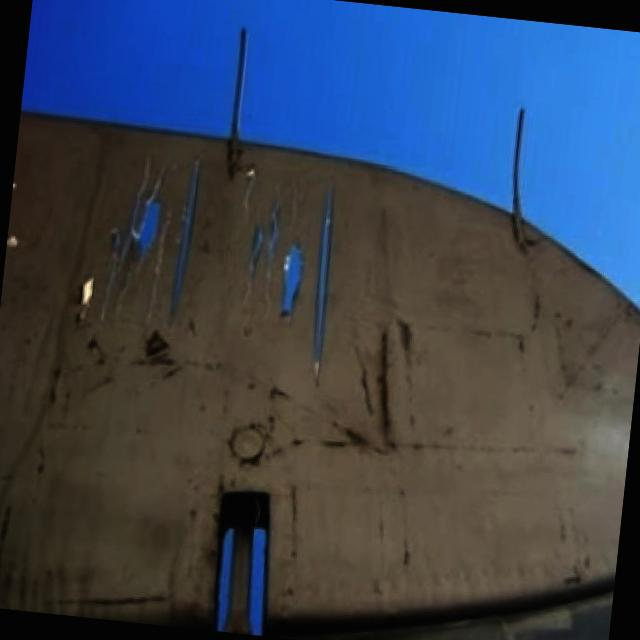crack: (78, 150, 344, 388)
